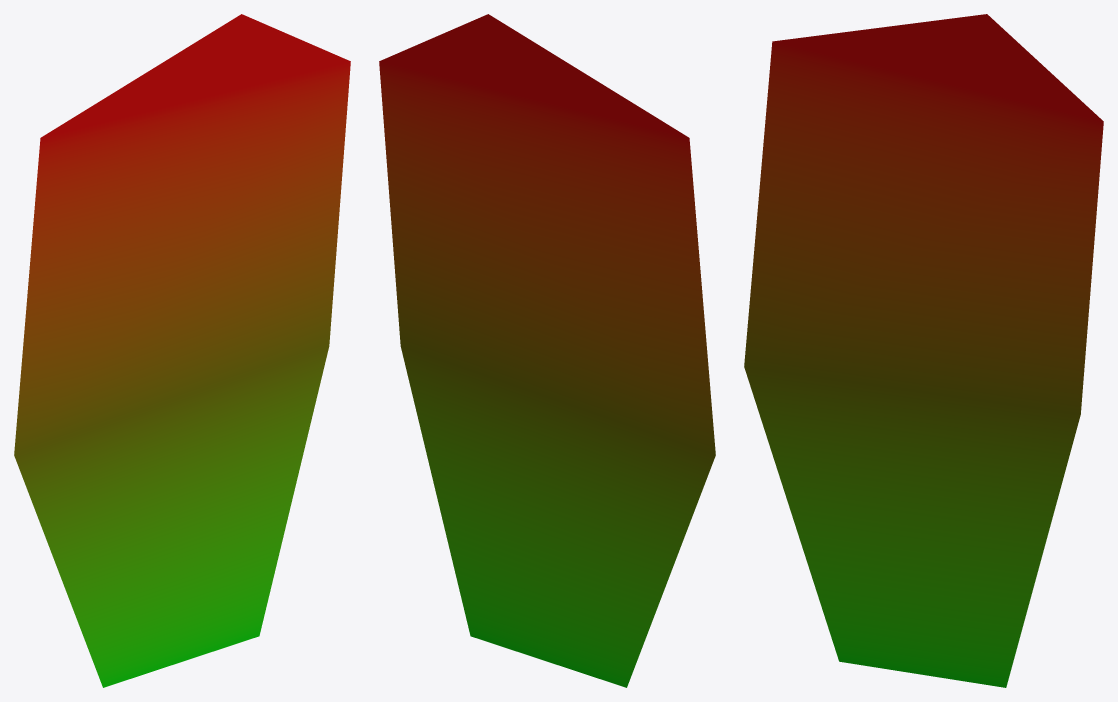
File: Var1_LOD5.fbx
3 renders of one model, left to right at view 1: azimuth 30°, elevation 25°; view 2: azimuth 150°, elevation 25°; view 3: azimuth 330°, elevation 25°, orthographic. The views are drawn at different scales.
Parts seen in each view (by area): view 1: _dfd0_Var1_LOD5; view 2: _dfd0_Var1_LOD5; view 3: _dfd0_Var1_LOD5.
Part boxes in pixels (left/top/right/bottom): _dfd0_Var1_LOD5: left=14, top=14, right=350, bottom=687; _dfd0_Var1_LOD5: left=379, top=14, right=715, bottom=687; _dfd0_Var1_LOD5: left=744, top=14, right=1103, bottom=687.
Size of the model in its own units: 28.79 by 52.29 by 6.85e-07.
